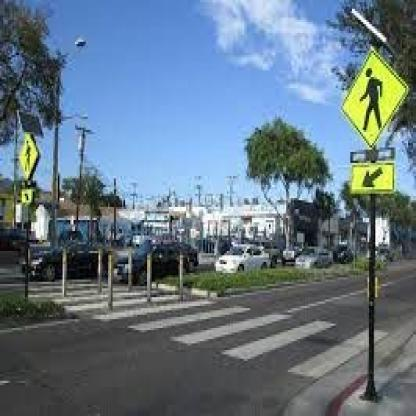Crosswalk: (30, 280, 388, 378)
